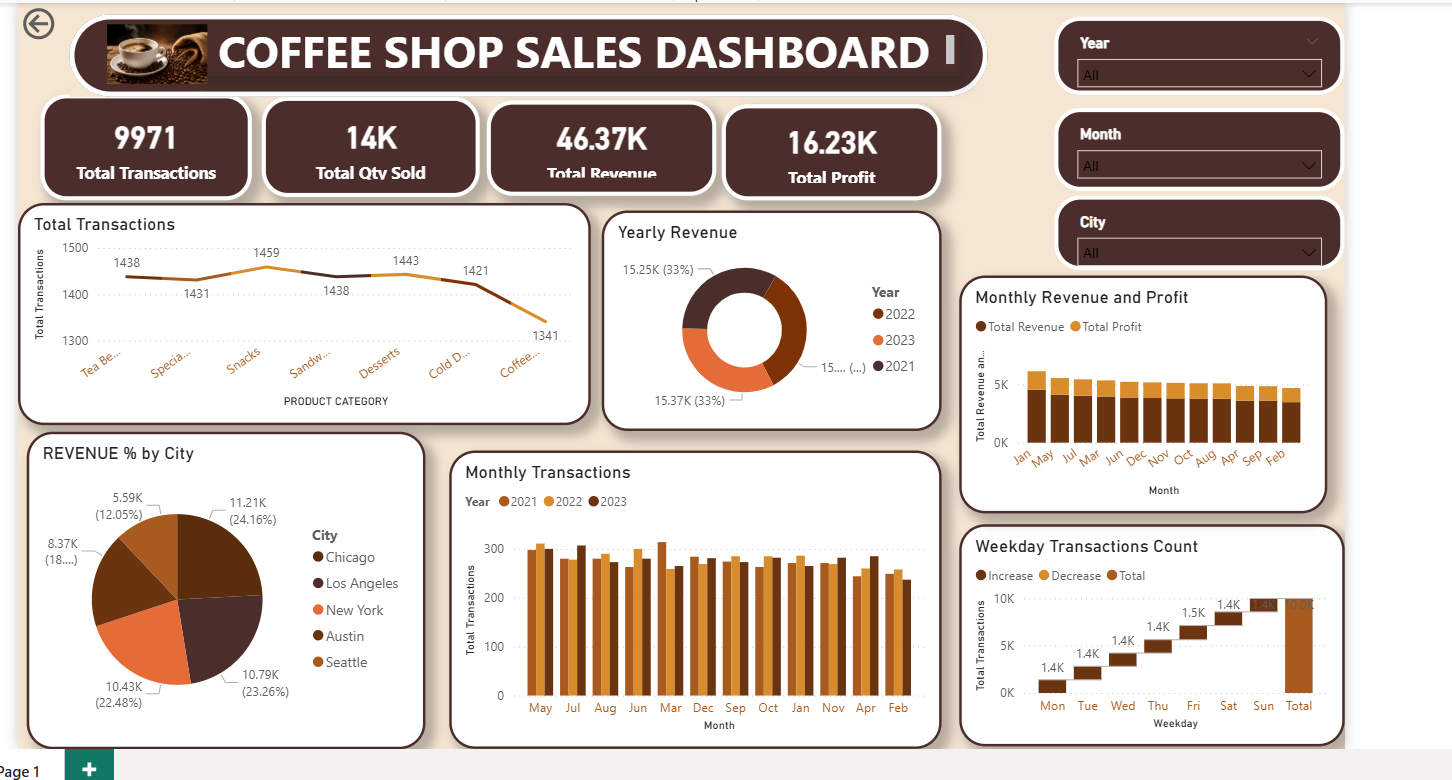

This screenshot's page, from the dashboard's own definition file:
{"tool":"powerbi","page":{"name":"Page 1","canvas":[1280,720],"ordinal":0},"visuals":[{"type":"card","fields":{"Values":["Coffee Deta.Total Transactions"]},"box":[0,88.1,203.9,101.3],"z":0},{"type":"card","fields":{"Values":["Coffee Deta.Total Qty Sold"]},"box":[206.3,89.3,209.9,96.5],"z":1000},{"type":"card","fields":{"Values":["Coffee Deta.Total Revenue"]},"box":[417.4,91.7,222,91.7],"z":2000},{"type":"card","fields":{"Values":["Coffee Deta.Total Profit"]},"box":[639.4,90.5,212.3,92.9],"z":3000},{"type":"lineChart","title":"Total Transactions ","fields":{"Category":["Coffee Deta.PRODUCT CATEGORY"],"Y":["Coffee Deta.Total Transactions"]},"box":[0,192.5,552.9,214.5],"z":4000},{"type":"clusteredColumnChart","title":"Monthly Transactions ","fields":{"Series":["Coffee Deta.Year"],"Y":["Coffee Deta.Total Transactions"],"Category":["Coffee Deta.Month"]},"box":[418.6,424.7,475.3,287.1],"z":5000},{"type":"waterfallChart","title":"Weekday Transactions Count","fields":{"Category":["Coffee Deta.Weekday"],"Y":["Coffee Deta.Total Transactions"]},"box":[908.4,423.5,371.6,288.3],"z":6000},{"type":"actionButton","box":[0,0,100,40],"z":7000},{"type":"donutChart","title":"Yearly Revenue","fields":{"Category":["Coffee Deta.Year"],"Y":["Coffee Deta.Total Revenue"]},"box":[561,193,347.5,214.7],"z":8000},{"type":"columnChart","title":"Monthly Revenue and  Profit ","fields":{"Category":["Coffee Deta.Month"],"Y":["Coffee Deta.Total Revenue","Coffee Deta.Total Profit"]},"box":[925.3,187,354.7,220.8],"z":9000},{"type":"pieChart","title":" REVENUE % by City","fields":{"Category":["Coffee Deta.City"],"Y":["Sum(Coffee Deta.REVENUE)"]},"box":[8.4,423.5,399.3,288.3],"z":10000},{"type":"slicer","fields":{"Values":["Coffee Deta.Year"]},"box":[851.7,91.7,156.8,91.7],"z":11000},{"type":"slicer","fields":{"Values":["Coffee Deta.City"]},"box":[1008.6,94.1,130.3,89.3],"z":12000},{"type":"slicer","fields":{"Values":["Coffee Deta.Month"]},"box":[1138.9,88.1,141.2,95.3],"z":13000},{"type":"shape","box":[49.5,10.9,1213.7,79.6],"z":14000},{"type":"textbox","box":[172.5,20.5,1060.5,49.5],"z":15000},{"type":"image","box":[67.6,20.5,105,57.9],"z":16000}]}

Visuals, with their boxes in screenshot pixels (x1, y1, x2, y2):
card - Coffee Deta.Total Transactions: 19:94:229:199
card - Coffee Deta.Total Qty Sold: 231:96:447:195
card - Coffee Deta.Total Revenue: 448:98:677:193
card - Coffee Deta.Total Profit: 677:97:895:193
"Total Transactions " lineChart: 19:202:588:423
"Monthly Transactions " clusteredColumnChart: 450:441:939:736
"Weekday Transactions Count" waterfallChart: 954:440:1336:736
actionButton: 19:4:122:45
"Yearly Revenue" donutChart: 596:202:954:423
"Monthly Revenue and  Profit " columnChart: 971:196:1336:423
" REVENUE % by City" pieChart: 28:440:438:736
slicer - Coffee Deta.Year: 895:98:1057:193
slicer - Coffee Deta.City: 1057:101:1191:193
slicer - Coffee Deta.Month: 1191:94:1336:193
shape: 70:15:1319:97
textbox: 196:25:1288:76
image: 88:25:197:84
